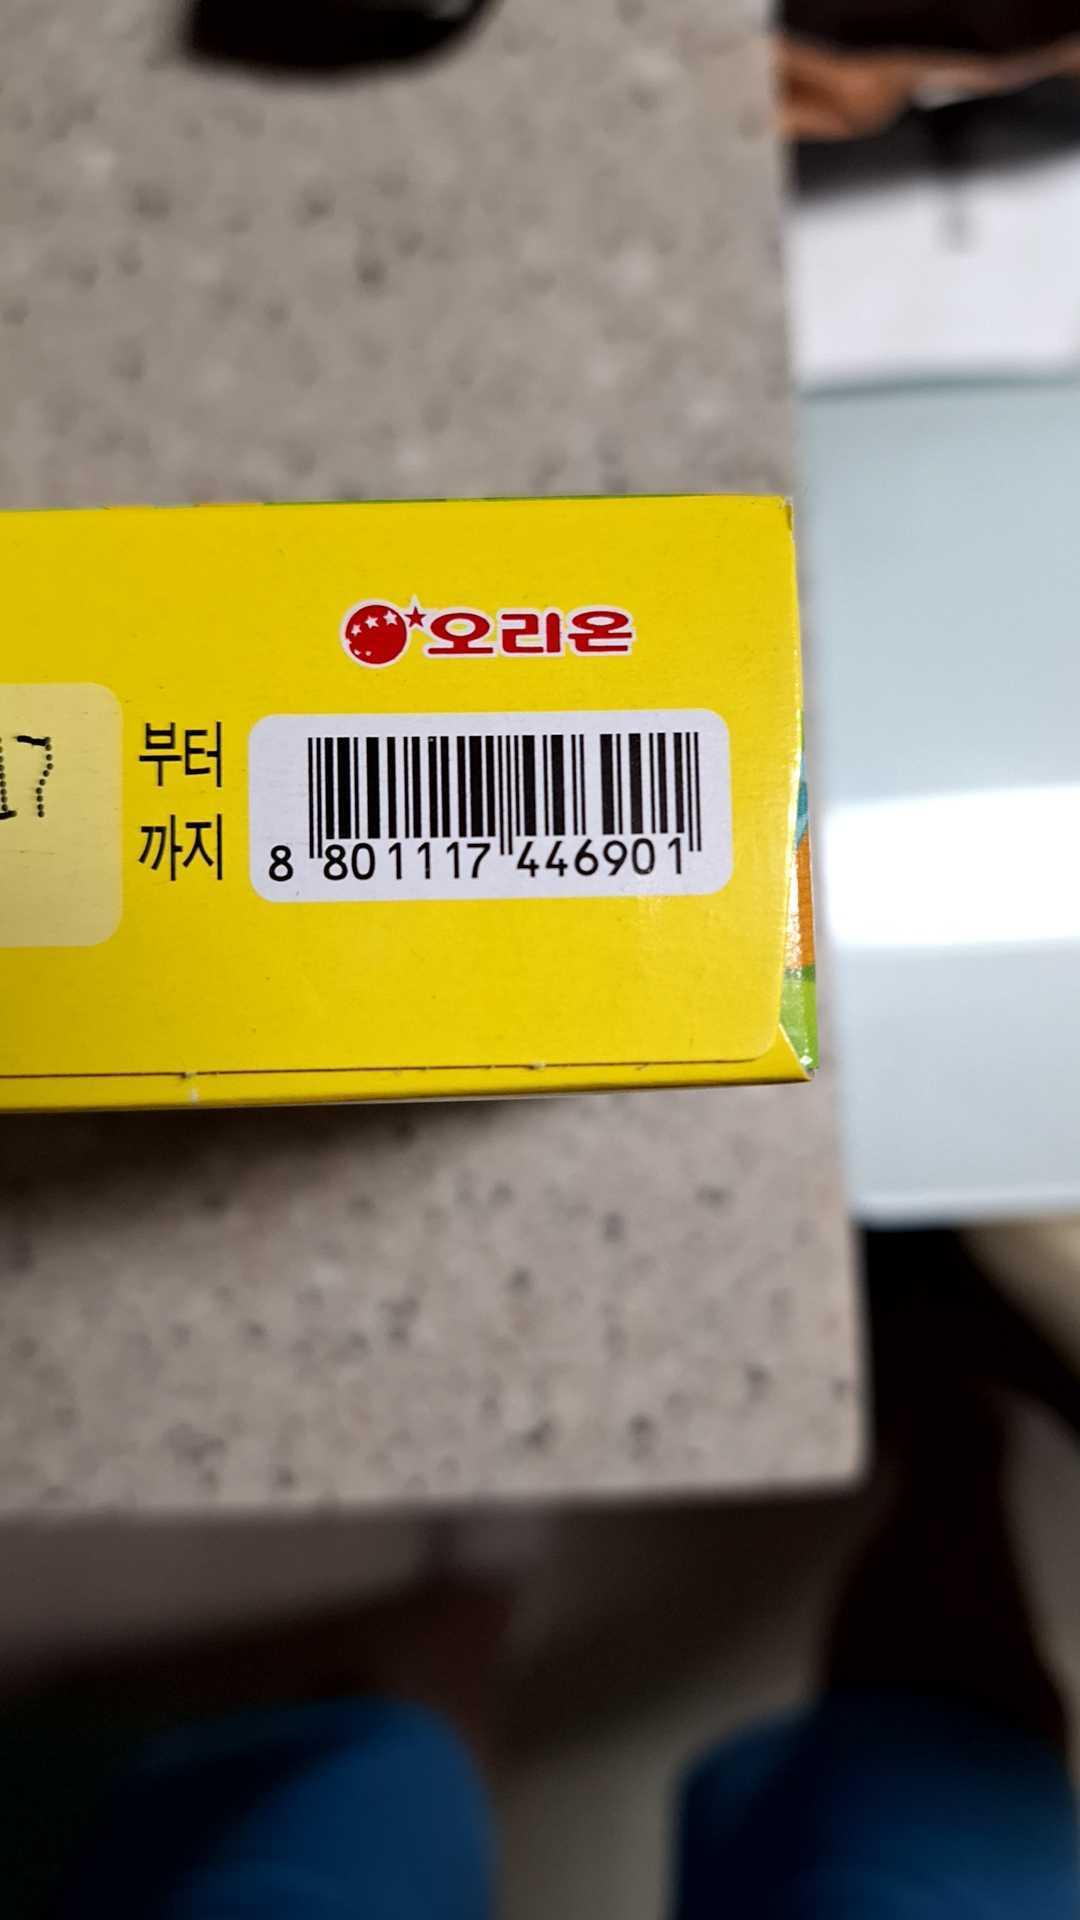chocomush-1200-2024-10-8: (251, 723, 712, 887)
